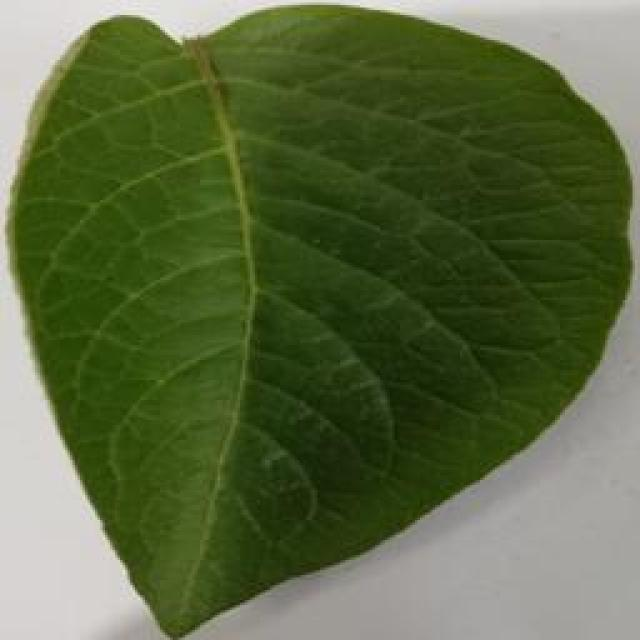Potato_Healthy: (10, 7, 624, 634)
